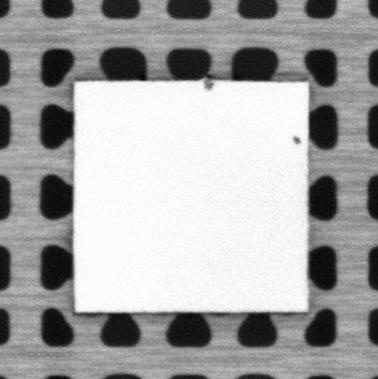DIE_INK: (290, 134, 303, 146), (202, 80, 215, 90)
